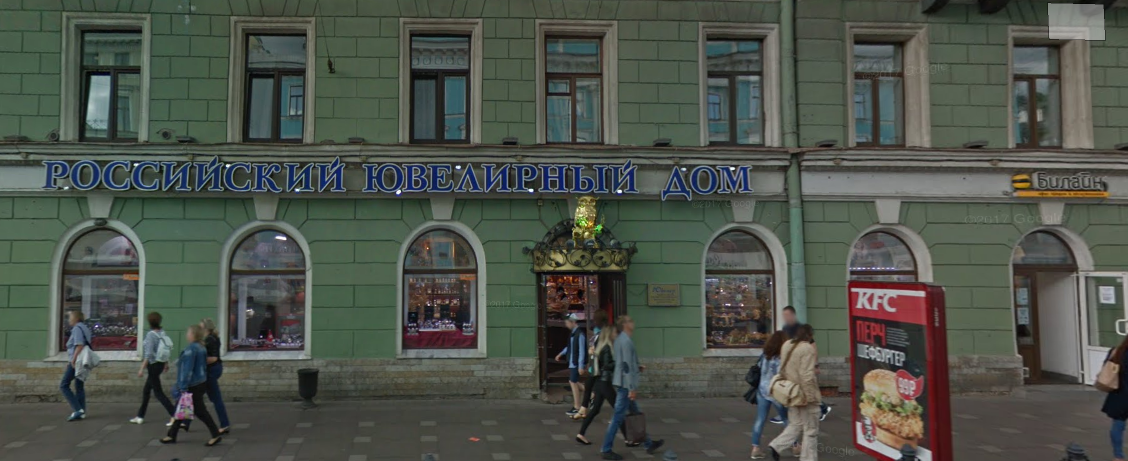door: (1012, 266, 1128, 382)
signboard: (37, 152, 755, 209), (1004, 166, 1115, 201)
window: (79, 21, 145, 143), (1013, 32, 1080, 149), (543, 28, 605, 152), (243, 23, 302, 143), (410, 30, 468, 141), (855, 34, 909, 150), (61, 271, 138, 352), (705, 30, 757, 147), (701, 268, 775, 345), (231, 276, 306, 350), (402, 271, 475, 346)
